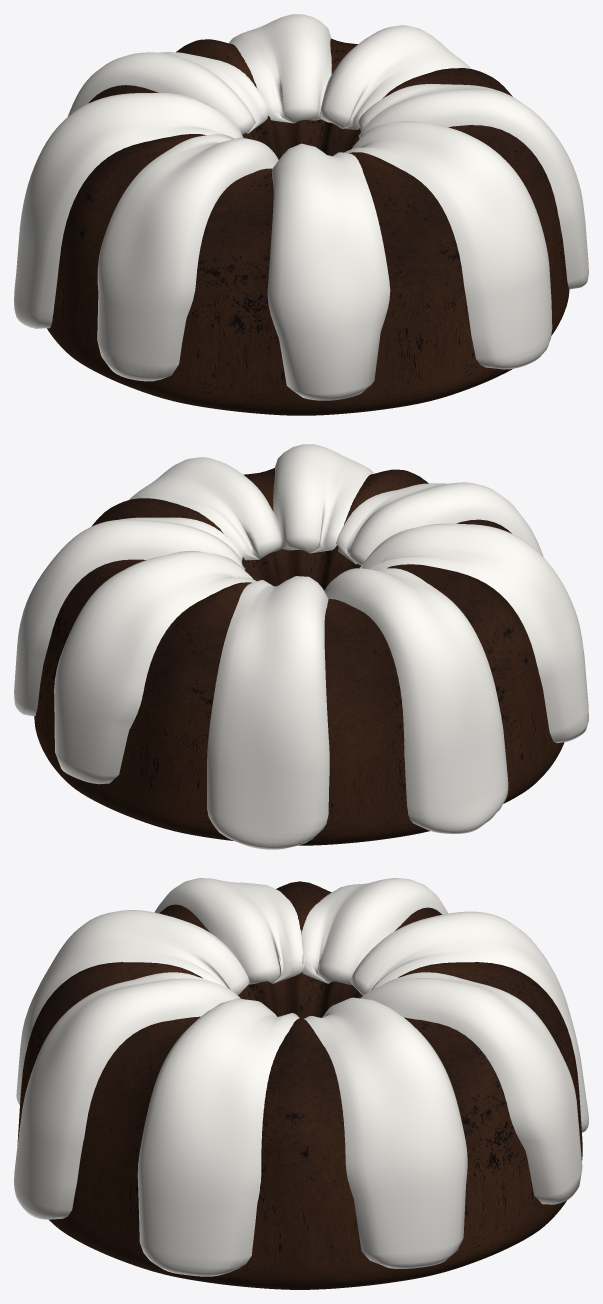
Rendered from bundt_chocolate_8.glb.
The picture shows the model from 3 angles, top to bottom: view 1: azimuth 30°, elevation 25°; view 2: azimuth 150°, elevation 25°; view 3: azimuth 270°, elevation 25°; orthographic projection. The views are drawn at different scales.
Visible parts, largest first — view 1: cake.001, frosting.005, frosting.004, frosting.006, frosting.003, frosting.007, frosting.001, frosting.002, frosting; view 2: cake.001, frosting.002, frosting.003, frosting.001, frosting.004, frosting, frosting.005, frosting.006, frosting.007; view 3: cake.001, frosting.007, frosting, frosting.006, frosting.001, frosting.005, frosting.002, frosting.004, frosting.003.
Part boxes in pixels (box(x1,y1,x2,y2)): cake.001: box(47, 38, 569, 415); frosting.005: box(267, 143, 390, 400); frosting.004: box(97, 134, 278, 381); frosting.006: box(344, 121, 552, 369); frosting.003: box(14, 93, 243, 328); frosting.007: box(358, 84, 588, 289); frosting.001: box(229, 14, 331, 123); frosting.002: box(67, 52, 268, 134); frosting: box(320, 25, 471, 129); cake.001: box(34, 468, 564, 845); frosting.002: box(207, 576, 329, 849); frosting.003: box(324, 568, 508, 833); frosting.001: box(54, 551, 256, 784); frosting.004: box(360, 523, 588, 743); frosting: box(14, 517, 245, 716); frosting.005: box(336, 482, 543, 565); frosting.006: box(273, 444, 373, 553); frosting.007: box(129, 457, 281, 560); cake.001: box(17, 881, 582, 1289); frosting.007: box(137, 998, 299, 1276); frosting: box(304, 997, 467, 1268); frosting.006: box(14, 972, 240, 1219); frosting.001: box(360, 972, 582, 1204); frosting.005: box(16, 910, 250, 1104); frosting.002: box(350, 911, 588, 1132); frosting.004: box(154, 878, 304, 984); frosting.003: box(301, 878, 448, 984).
Size of the model in its own units: 0.2128 by 0.0939 by 0.2125.
2 materials, 1 textured.
